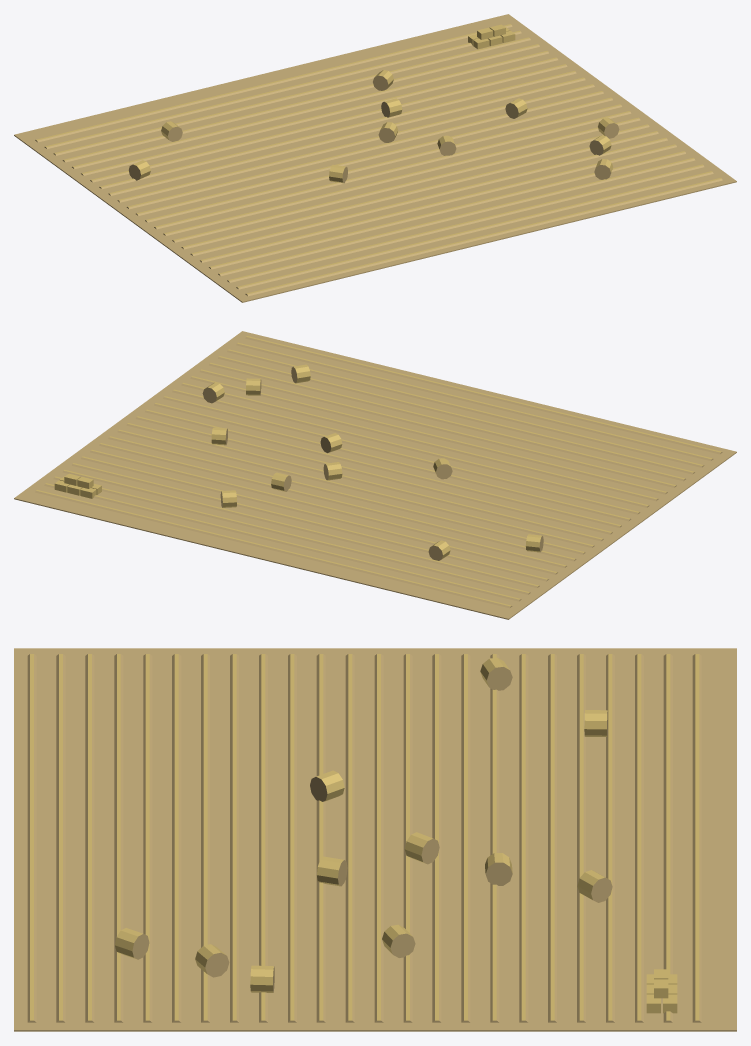
File: Kir_alan_saman_1_Hafif.fbx
The picture shows the model from 3 angles, top to bottom: view 1: azimuth 30°, elevation 25°; view 2: azimuth 150°, elevation 25°; view 3: azimuth 270°, elevation 25°; orthographic projection. The views are drawn at different scales.
Visible parts, largest first — view 1: Kir_alan_saman_1_Hafif; view 2: Kir_alan_saman_1_Hafif; view 3: Kir_alan_saman_1_Hafif.
Boxes of the visible parts, bbox=[...] form: Kir_alan_saman_1_Hafif: bbox=[14, 14, 736, 302]; Kir_alan_saman_1_Hafif: bbox=[14, 331, 736, 619]; Kir_alan_saman_1_Hafif: bbox=[14, 648, 736, 1031].
Bounding box in the file's own units: 50 × 1.56 × 40.
